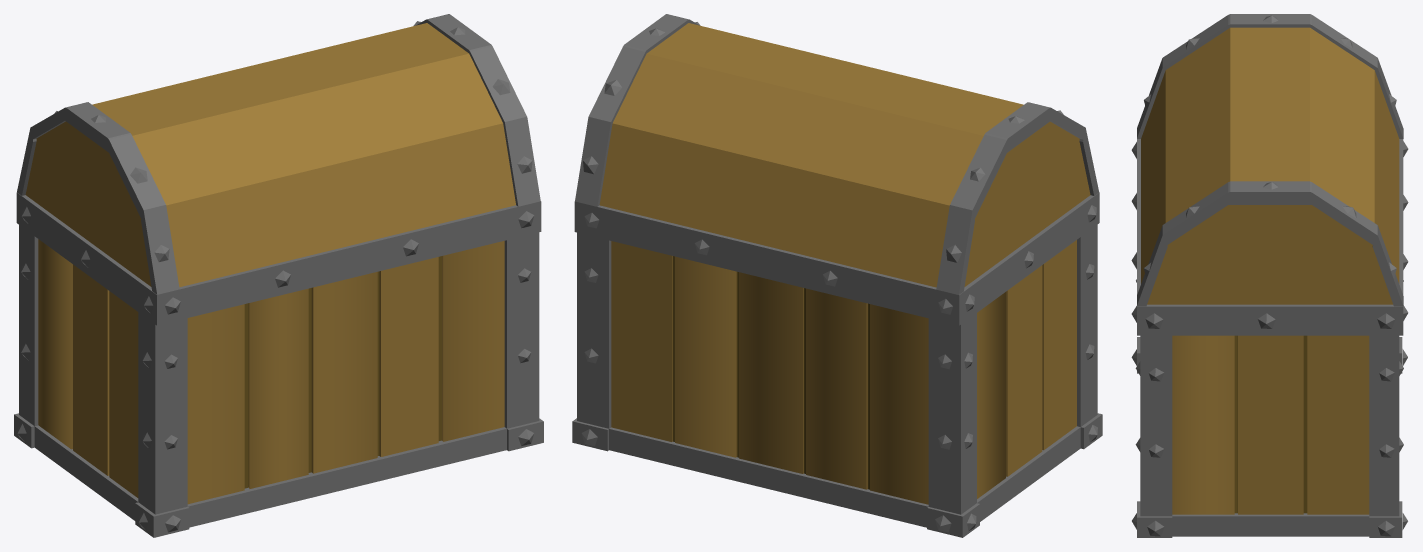
The model's file is Chest.fbx.
3 renders of one model, left to right at view 1: azimuth 30°, elevation 25°; view 2: azimuth 150°, elevation 25°; view 3: azimuth 270°, elevation 25°, orthographic. The views are drawn at different scales.
Visible parts, largest first — view 1: Lower Body, Upper Body; view 2: Lower Body, Upper Body; view 3: Upper Body, Lower Body.
Boxes of the visible parts, x1,y1,x2,y2 form: Lower Body: (14, 225, 543, 537); Upper Body: (16, 14, 541, 325); Lower Body: (572, 225, 1102, 537); Upper Body: (574, 14, 1099, 325); Upper Body: (1137, 14, 1403, 335); Lower Body: (1137, 335, 1402, 537).
Size of the model in its own units: 156 by 137 by 98.66.
